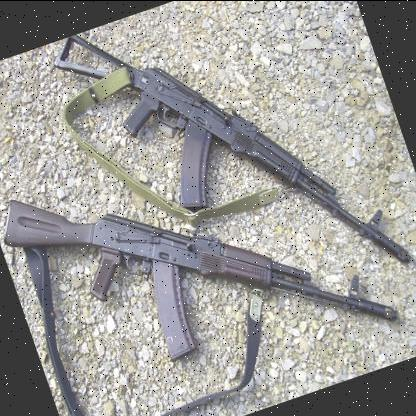rifle: (0, 90, 406, 416), (44, 0, 410, 356)
